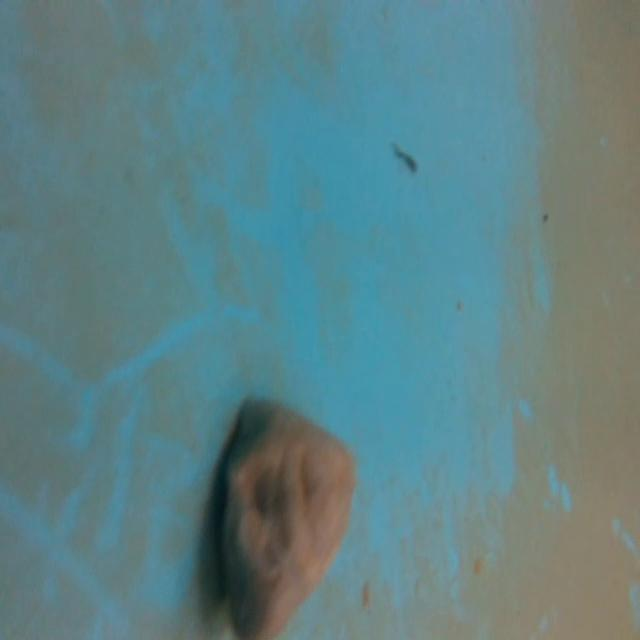rock: (212, 393, 359, 640)
